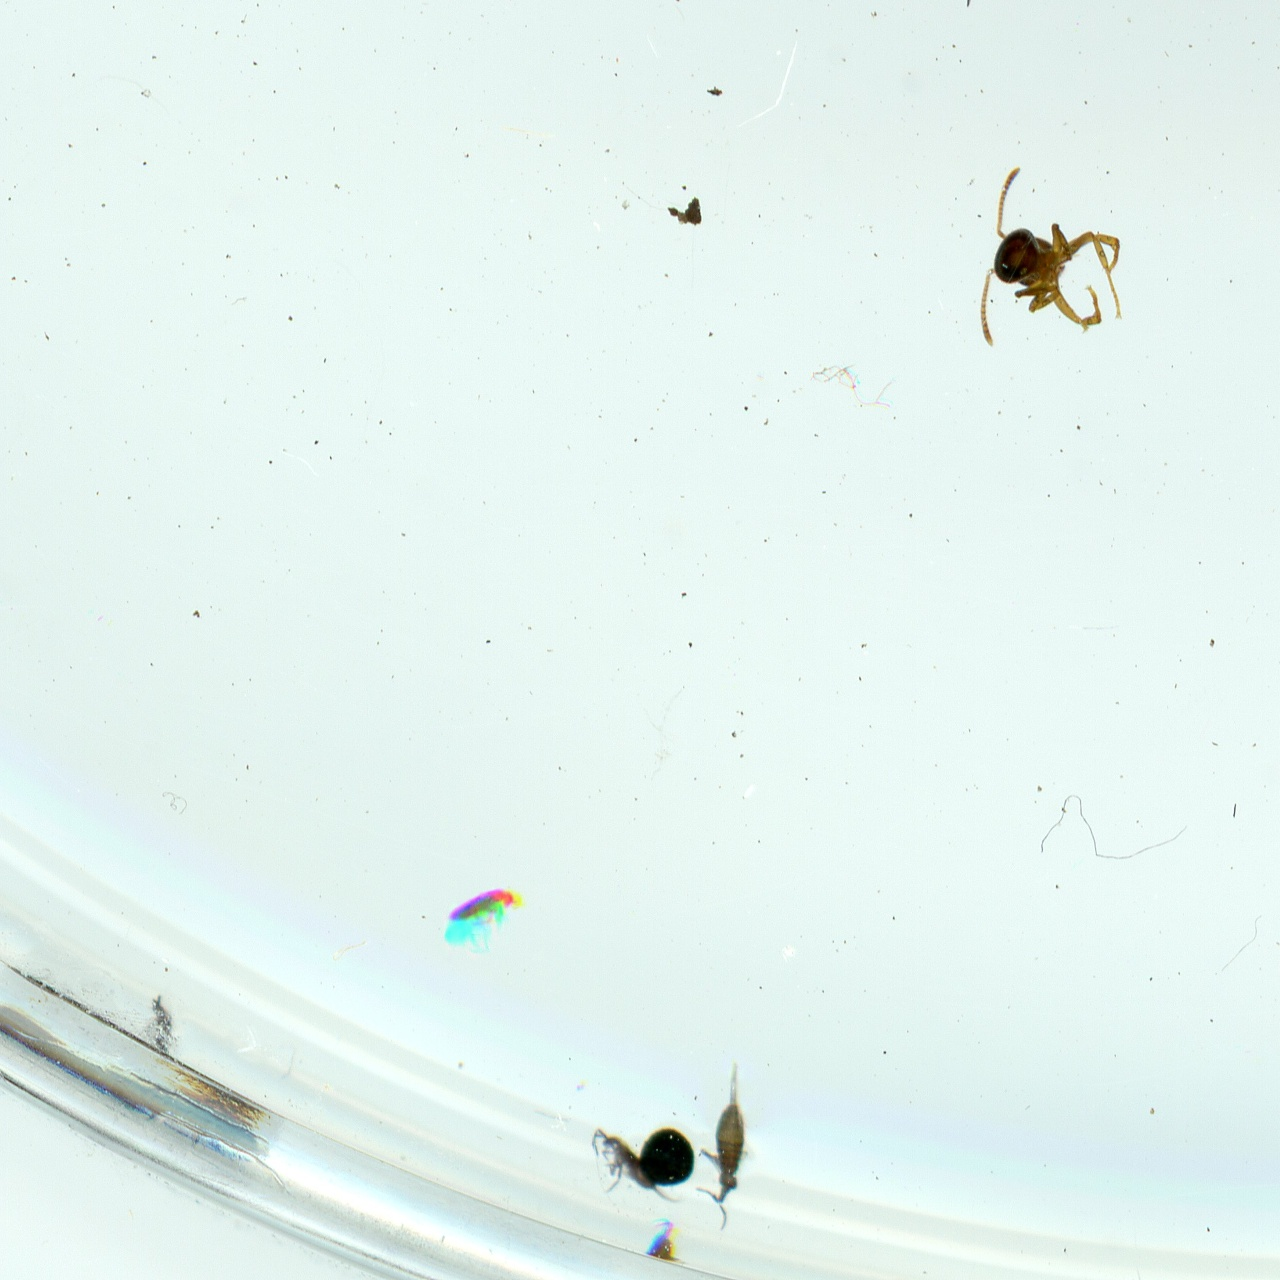arthropod: (975, 161, 1128, 350), (692, 1056, 755, 1236), (586, 1125, 689, 1208), (440, 880, 531, 945), (892, 0, 1010, 13)
